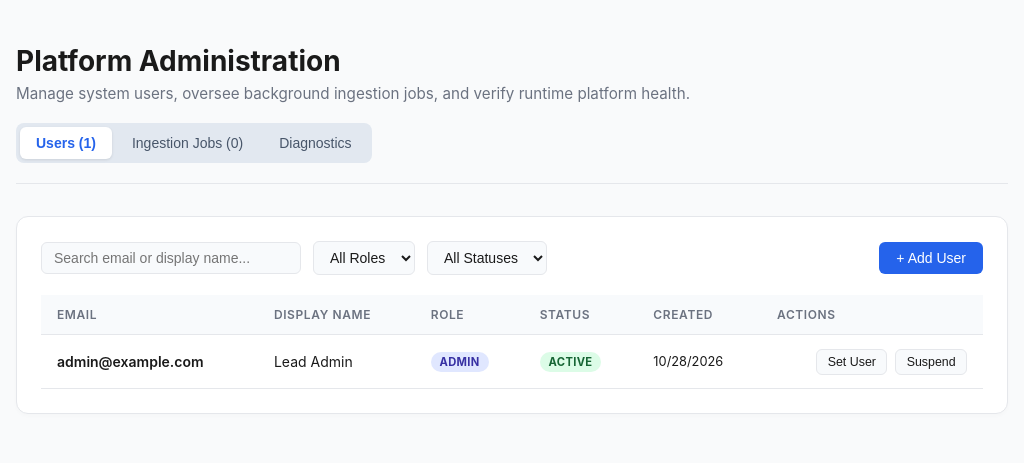
AdminPanel (Phase 8 - Chunk 8.4) › displays error alert when last-admin protection rejects operation
This screenshot has width=1024, height=463.
Step 1. Click the button with test id "toggle-role-user-1" → (852, 362), box [816,349,887,375]
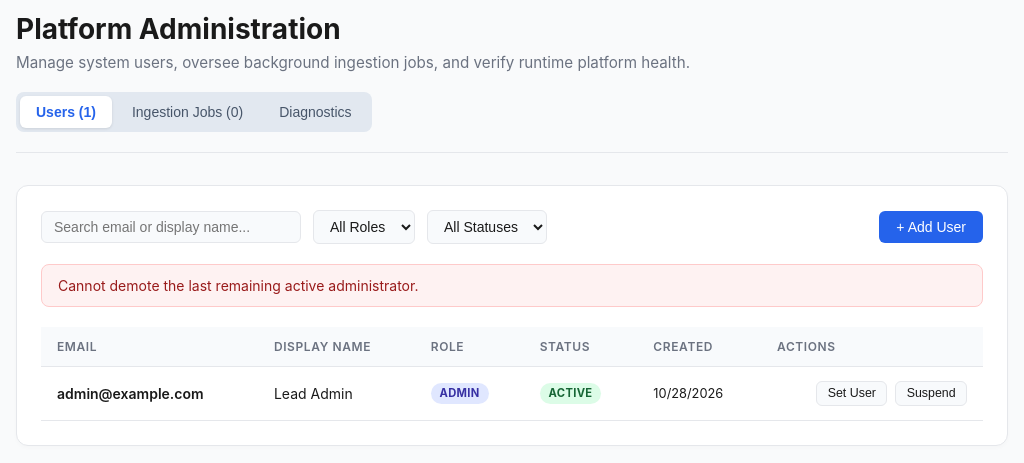
Check: the text "Cannot demote the last remaining active administrator." is shown, box [41,264,983,307]
